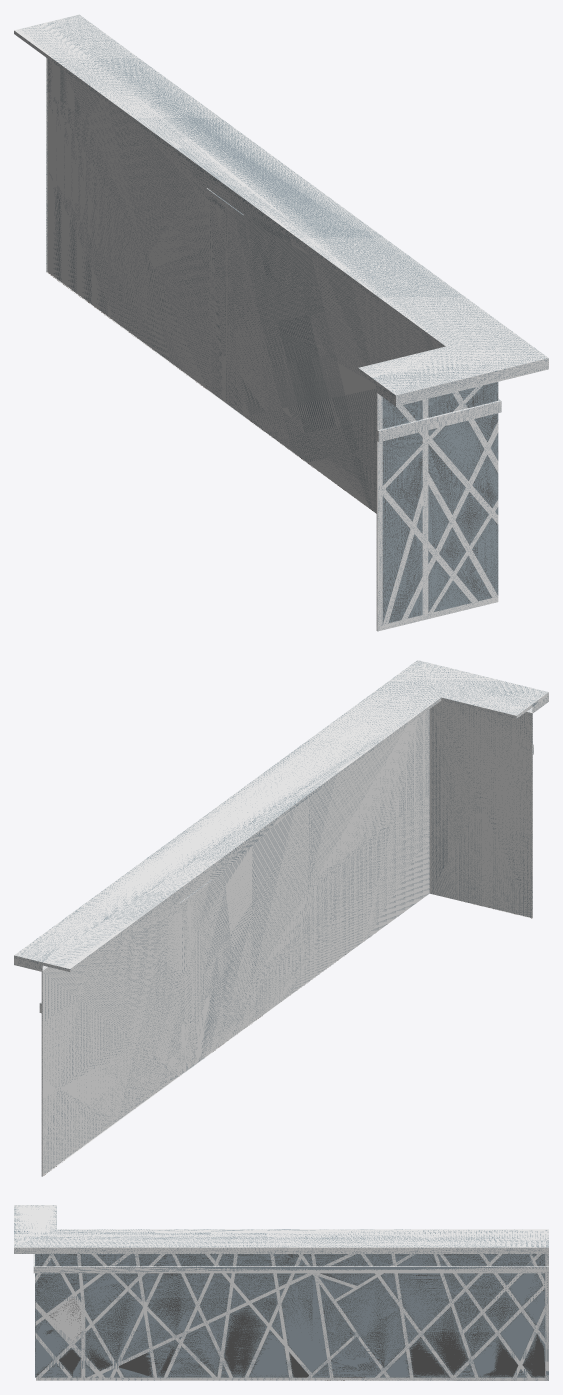
File: Kitchen_Bar.fbx
3 renders of one model, top to bottom at view 1: azimuth 30°, elevation 25°; view 2: azimuth 150°, elevation 25°; view 3: azimuth 270°, elevation 25°, orthographic. The views are drawn at different scales.
Visible parts, largest first — view 1: Group1; view 2: Group1; view 3: Group1.
Part boxes in pixels (bbox=[...]): Group1: bbox=[14, 14, 548, 631]; Group1: bbox=[14, 660, 548, 1176]; Group1: bbox=[14, 1205, 548, 1380].
Bounding box in the file's own units: 28.19 × 43.94 × 150.
